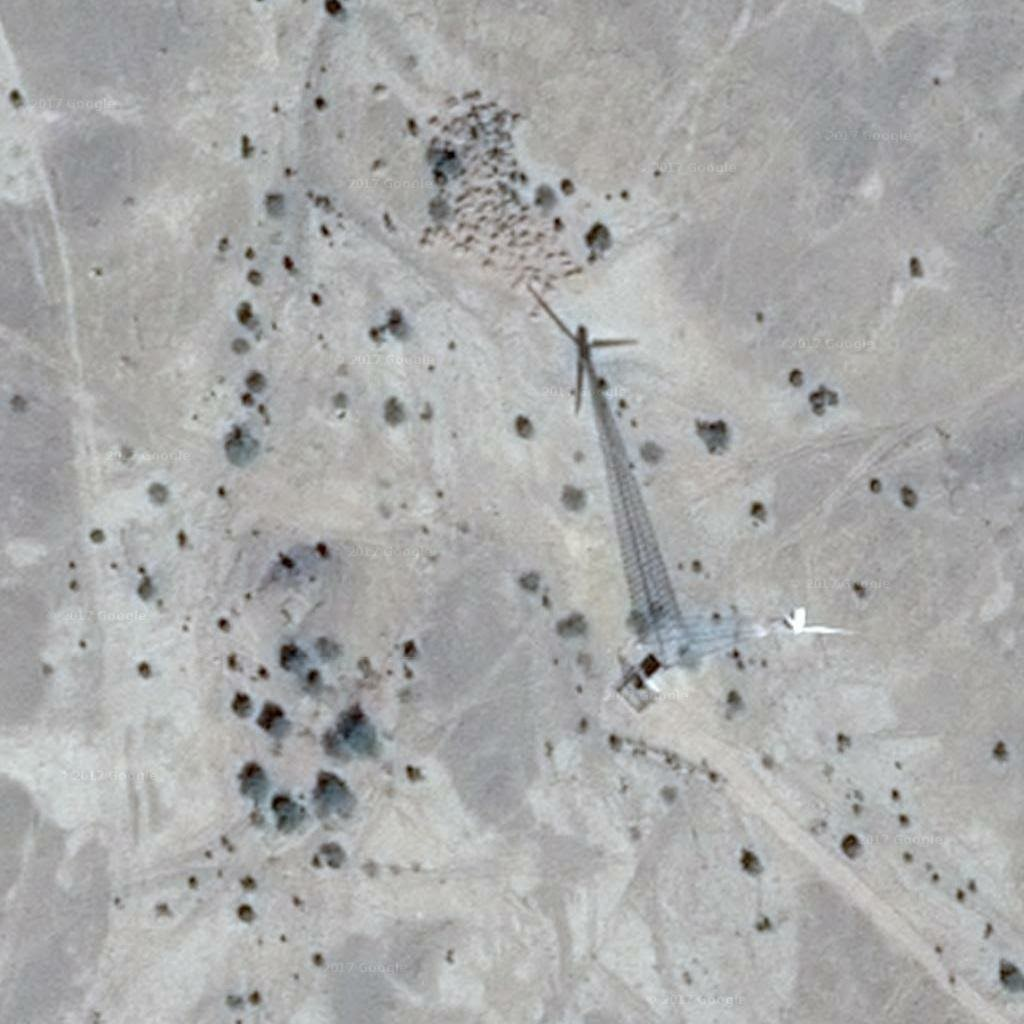Windmill: (525, 281, 697, 623)
